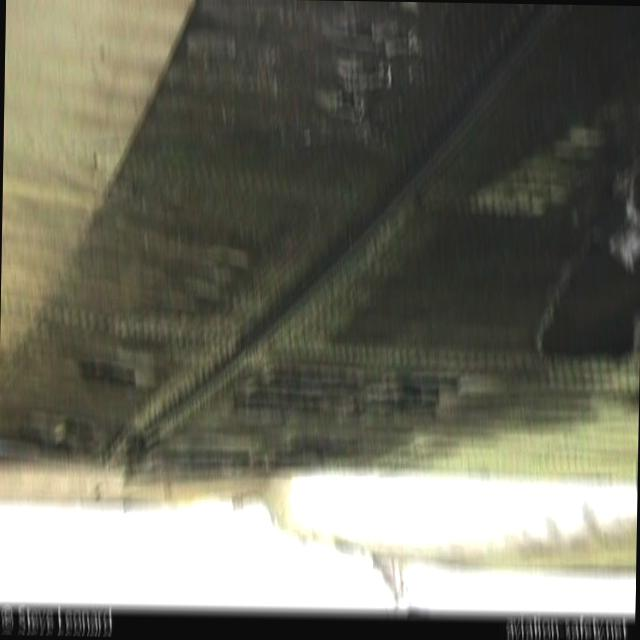crack: (302, 13, 420, 128)
